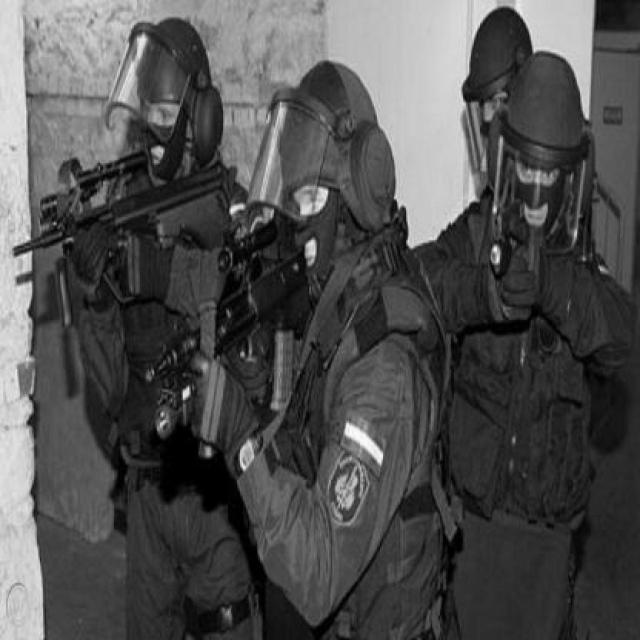weapon: (138, 245, 308, 467), (13, 151, 238, 304)
